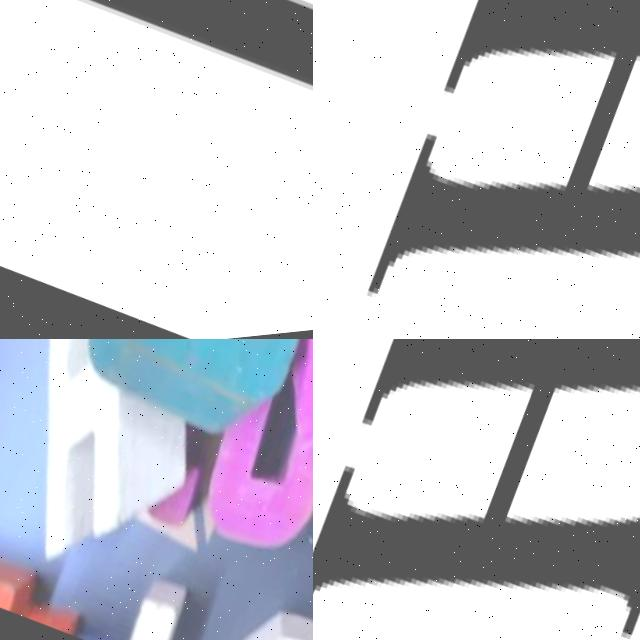1: (0, 0, 313, 270)
D: (38, 339, 313, 448)
G: (203, 339, 313, 549)
H: (313, 339, 640, 640), (354, 0, 640, 300)
